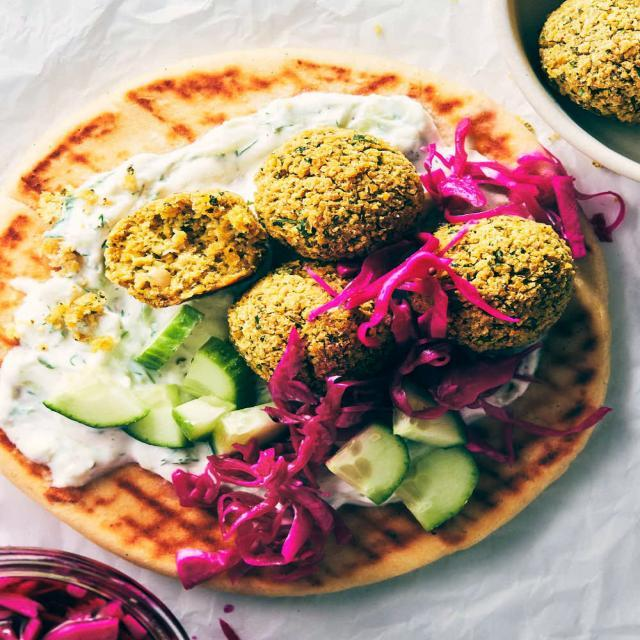flafel: (250, 125, 426, 257), (232, 265, 409, 395), (412, 216, 574, 358), (106, 190, 260, 305)
